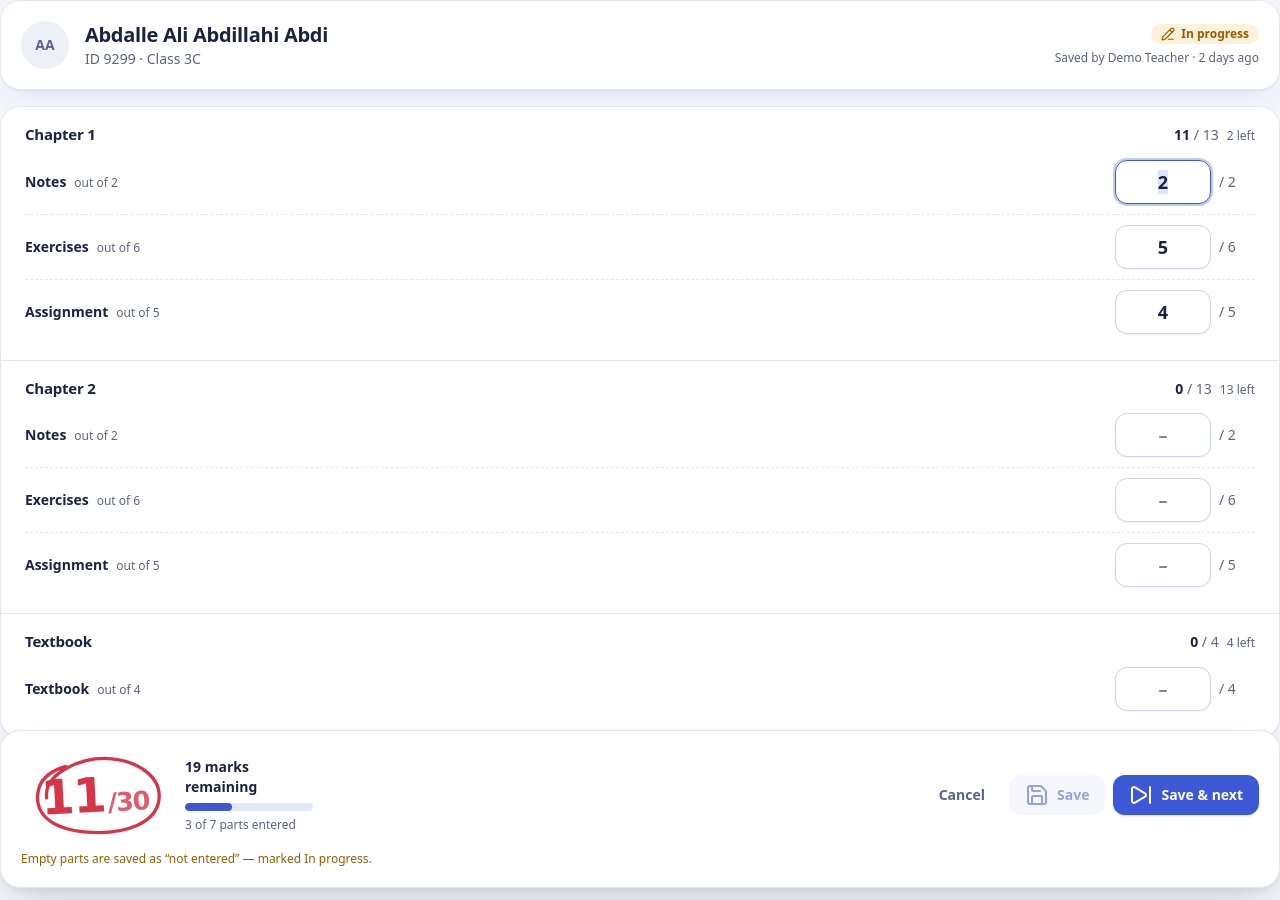
Test case: MarkSheet › reports unsaved changes to the page, and Cancel brings the saved marks back
Replace the text in the field named "Chapter 1 Notes" with "1" at (1163, 182), box [1115,160,1211,204]
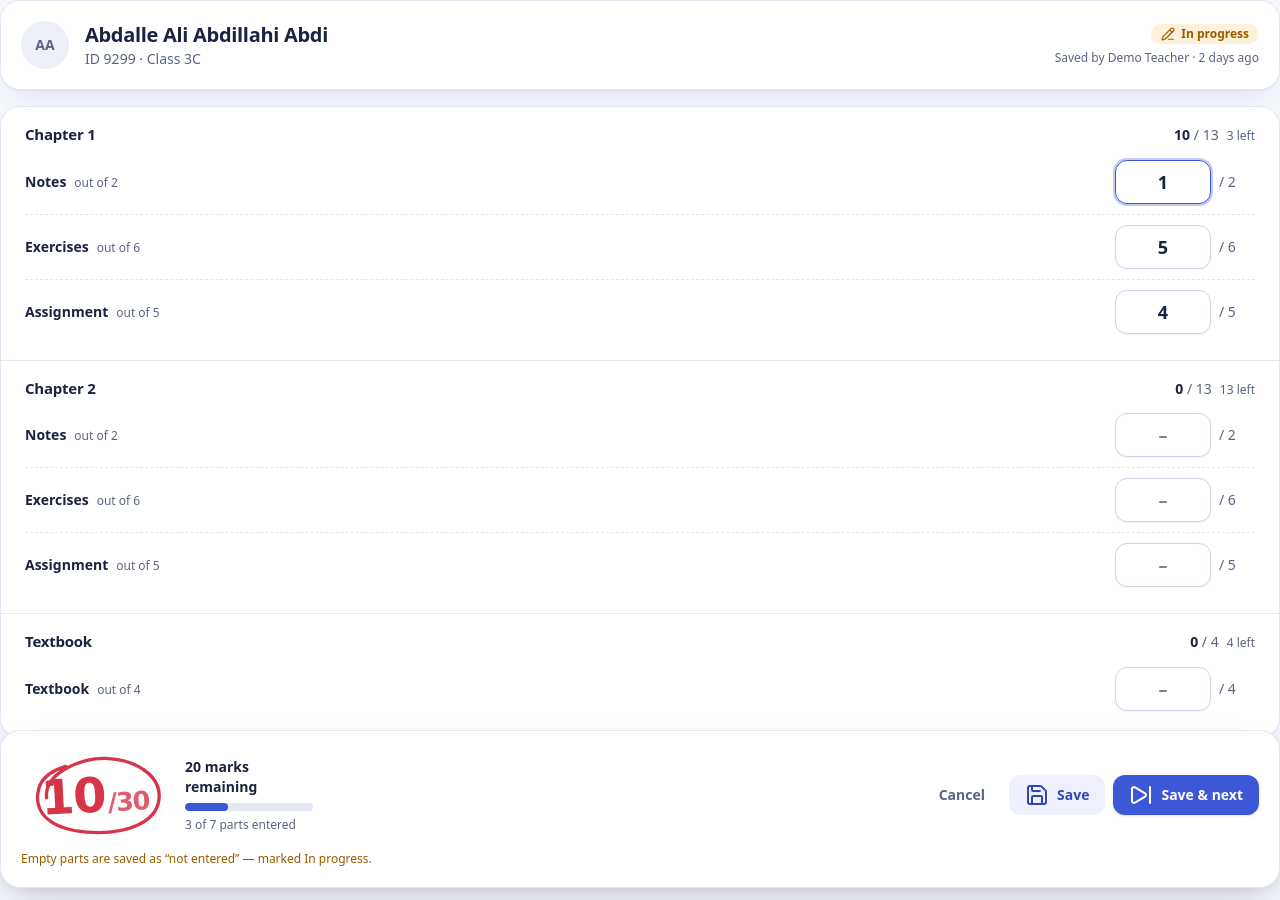
Click the button "Cancel" at (962, 795), box [923,775,1001,815]
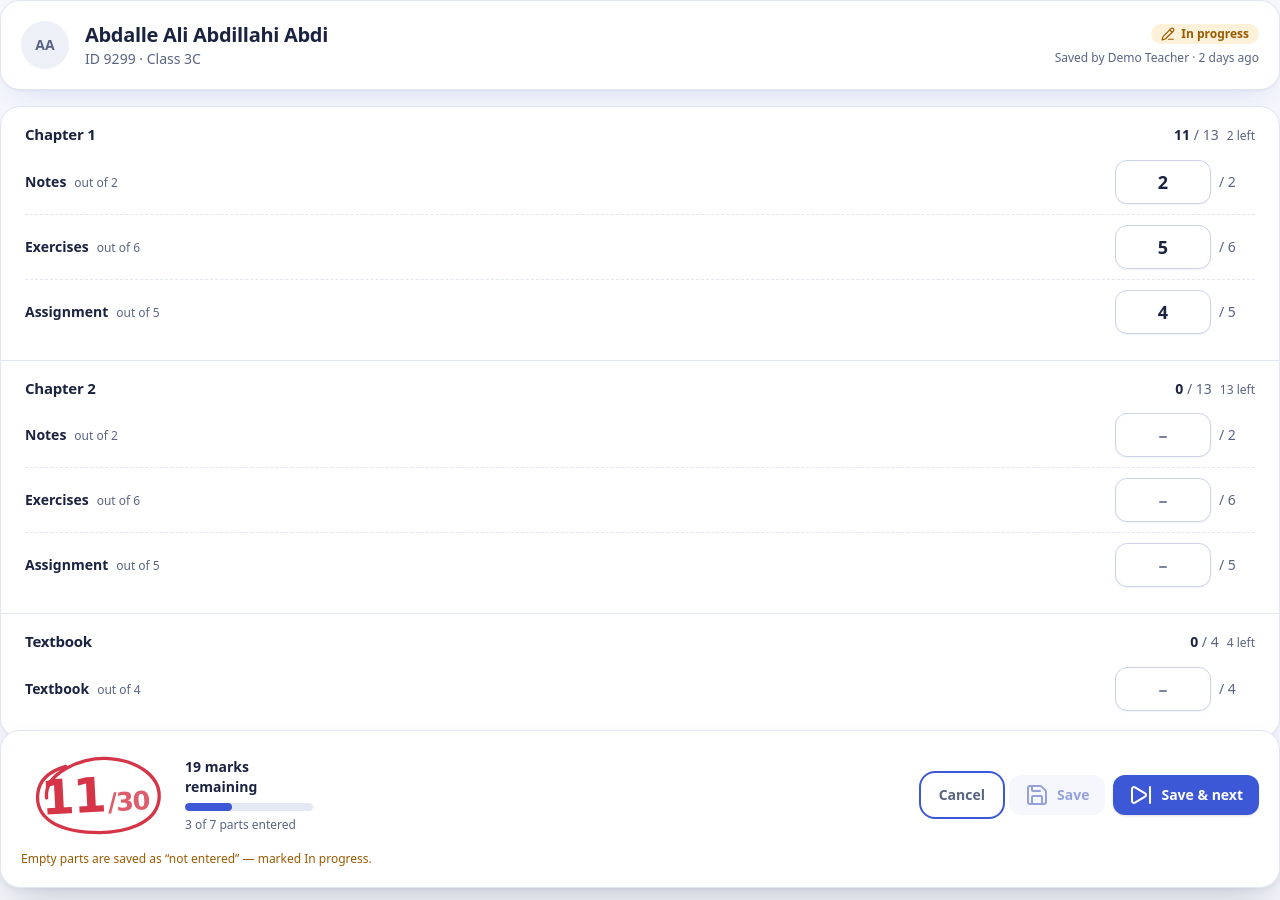
Check: the field named "Chapter 1 Notes" holds "2", box [1115,160,1211,204]
